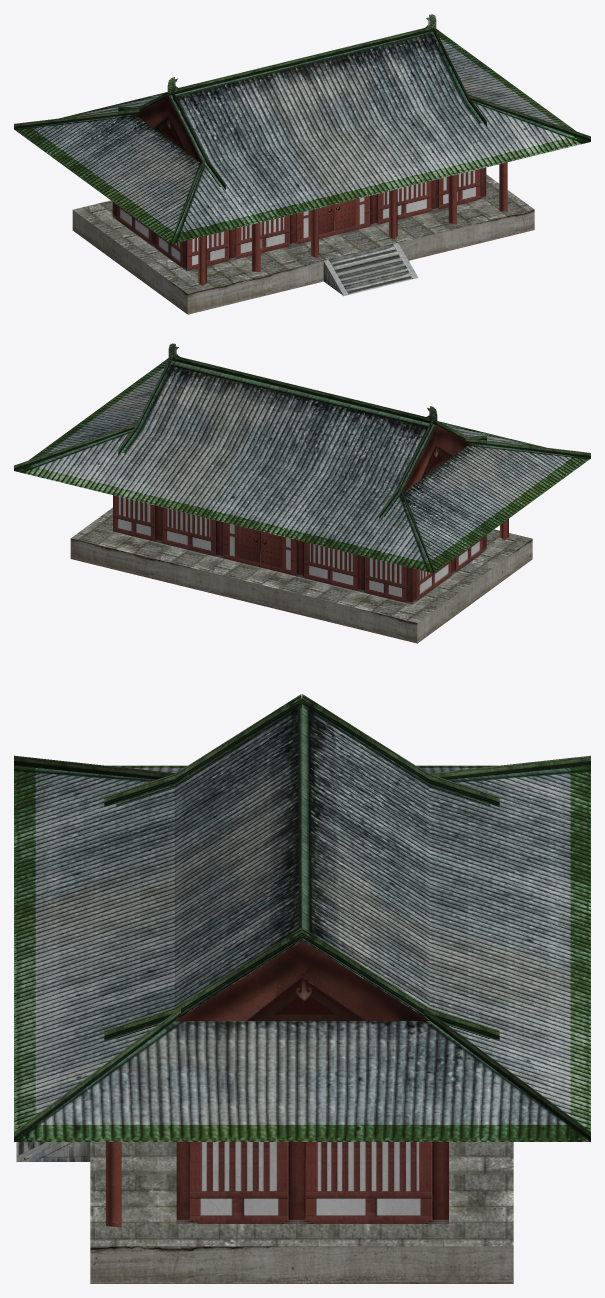
The model's file is Chinese_Palace_Low_Poly_4_FBX.FBX.
3 views of the same model, one above another, from view 1: azimuth 30°, elevation 25°; view 2: azimuth 150°, elevation 25°; view 3: azimuth 270°, elevation 25° (orthographic). The views are drawn at different scales.
Parts seen in each view (by area): view 1: Chinese_Palace_Low_Poly_4; view 2: Chinese_Palace_Low_Poly_4; view 3: Chinese_Palace_Low_Poly_4.
Part boxes in pixels (bbox=[...]): Chinese_Palace_Low_Poly_4: bbox=[14, 14, 590, 314]; Chinese_Palace_Low_Poly_4: bbox=[14, 343, 590, 643]; Chinese_Palace_Low_Poly_4: bbox=[14, 694, 590, 1283].
Bounding box in the file's own units: 2804 × 1817 × 1178.
Materials: 1 (1 with a texture image).
